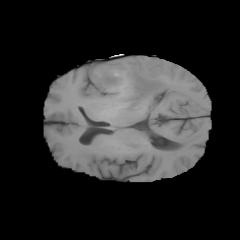glioma: (89, 66, 169, 110)
